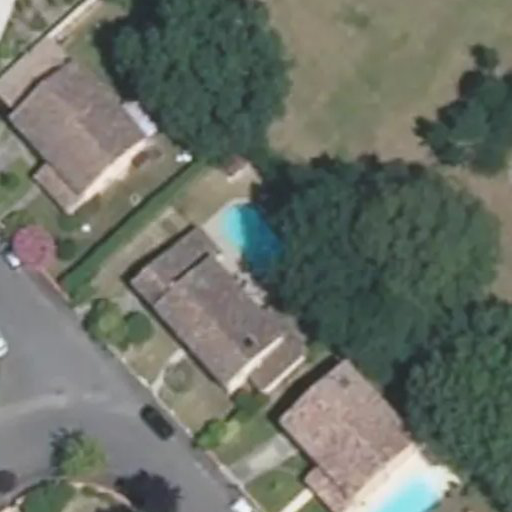pool: (218, 227, 293, 256)
